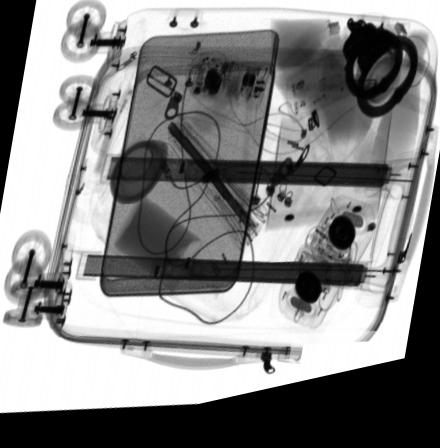HandCuffs: (340, 28, 418, 135)
